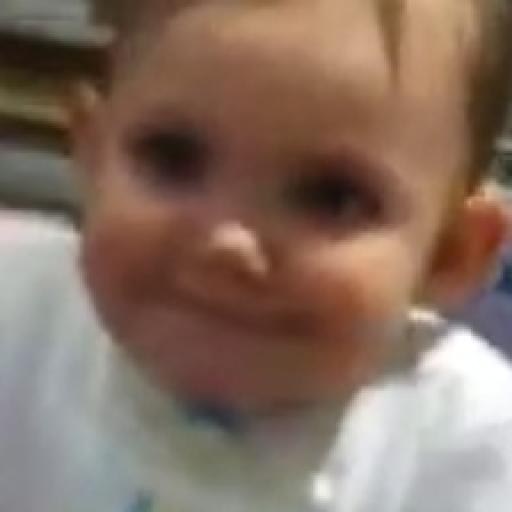Autism: (105, 0, 512, 446)
